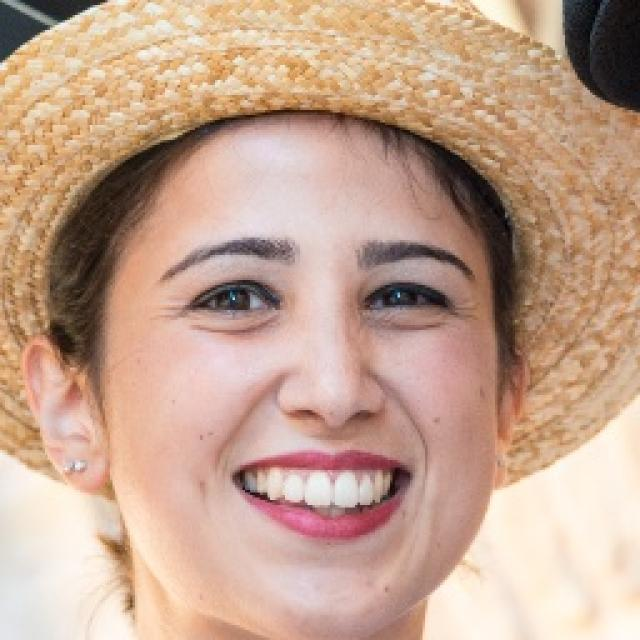earlobe: (20, 254, 110, 411), (490, 345, 530, 490)
